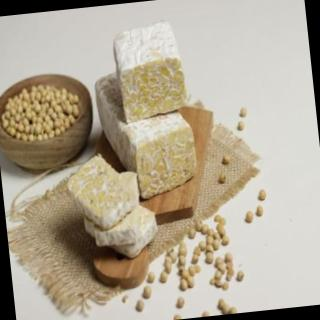Tempe: (109, 16, 192, 126), (62, 150, 140, 233)
